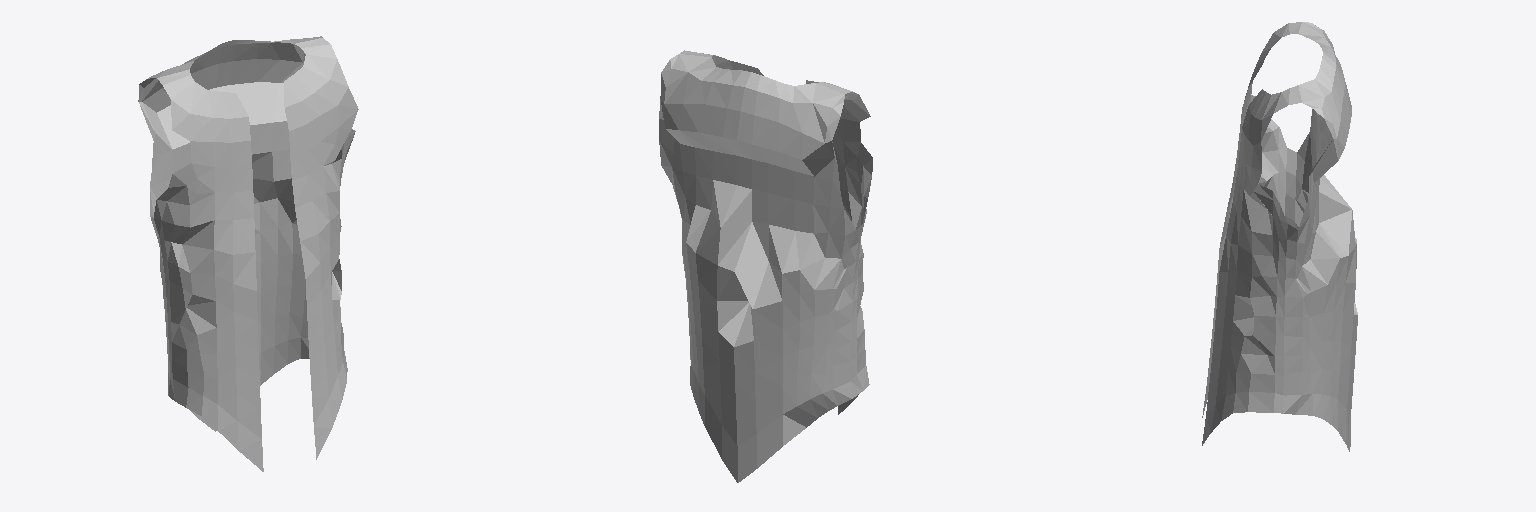
The model's file is vest_3.obj.
The picture shows the model from 3 angles: view 1: azimuth 30°, elevation 25°; view 2: azimuth 150°, elevation 25°; view 3: azimuth 270°, elevation 25°; orthographic projection.
Visible parts, largest first — view 1: tshirt_base_Plane.035_tshirt_base_Plane.002; view 2: tshirt_base_Plane.035_tshirt_base_Plane.002; view 3: tshirt_base_Plane.035_tshirt_base_Plane.002.
Part boxes in pixels (left/top/right/bottom): tshirt_base_Plane.035_tshirt_base_Plane.002: left=138, top=36, right=358, bottom=471; tshirt_base_Plane.035_tshirt_base_Plane.002: left=659, top=50, right=872, bottom=482; tshirt_base_Plane.035_tshirt_base_Plane.002: left=1202, top=22, right=1357, bottom=451.
Size of the model in its own units: 0.5539 by 1.06 by 0.3757.